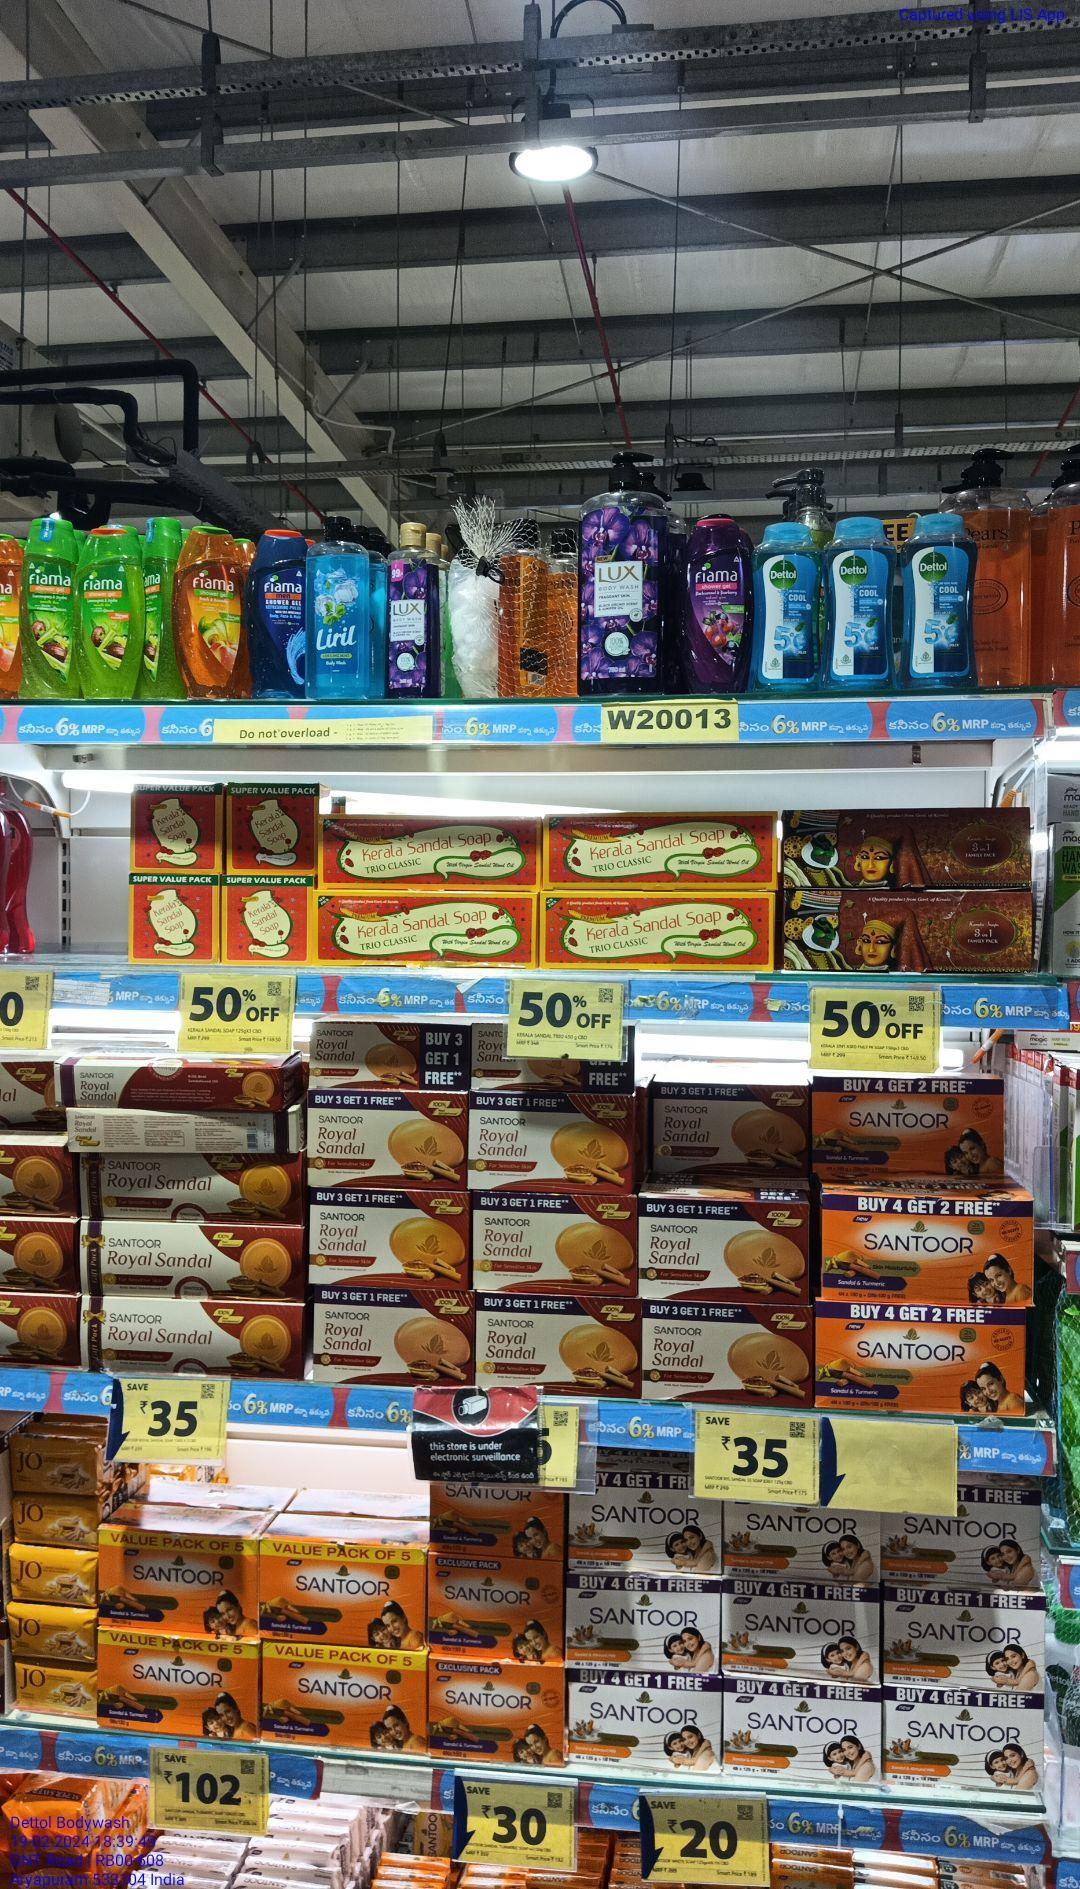Dettol_Bodywash_Cool: (900, 510, 976, 689), (749, 514, 822, 690), (826, 516, 897, 692)
Fiama_Shower_Gel_Lemongrass_and_Jojoba_250ML: (23, 512, 79, 699), (84, 522, 143, 694)
Fiama_Shower_Gel_Peach_and_Avocado_250ML: (174, 527, 247, 697)
Liril_Cooling_Mint_Body_Wash_250ML: (305, 515, 370, 698)
Lux_Black_Orchid_Scent_and_Juniper_Oil_Body_Wash_245ML: (388, 522, 440, 699)
